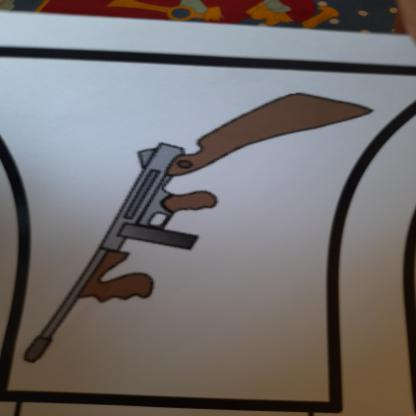Bootlegger: (14, 75, 378, 374)
